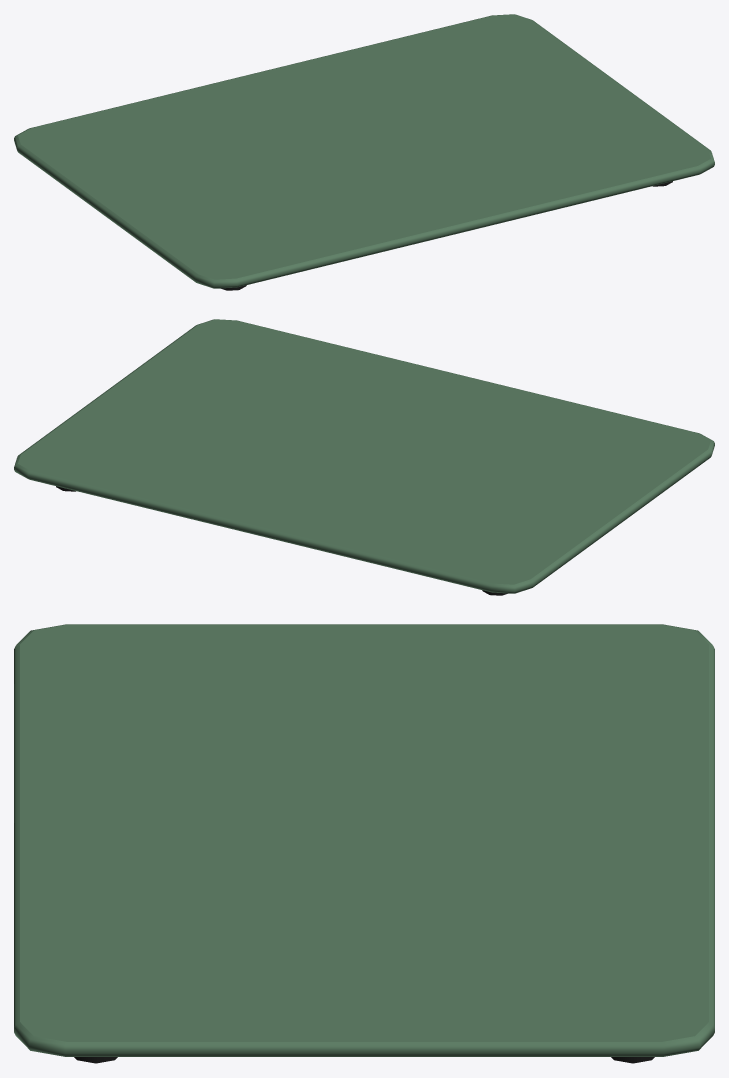
Rendered from t60_mounts.obj.
The picture shows the model from 3 angles, top to bottom: view 1: azimuth 30°, elevation 25°; view 2: azimuth 150°, elevation 25°; view 3: azimuth 270°, elevation 25°; orthographic projection. The views are drawn at different scales.
Parts seen in each view (by area): view 1: t60_mounts; view 2: t60_mounts; view 3: t60_mounts.
Part boxes in pixels (x1,y1,x2,y2): t60_mounts: [14, 14, 714, 290]; t60_mounts: [14, 319, 714, 595]; t60_mounts: [14, 624, 714, 1063].
Size of the model in its own units: 4.88 by 0.24 by 3.42.
